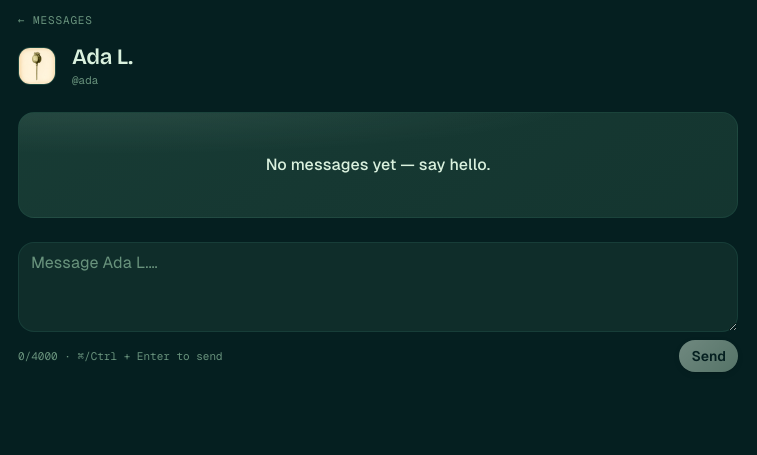
Test case: ConversationPage (todo 339) › a 403 on send shows the readable blocked notice, not DRF’s default detail
The width and height of the screenshot is (757, 455).
Type "hi" into the text box with placeholder "Message Ada L.…" at (378, 287), box [18,242,738,332]
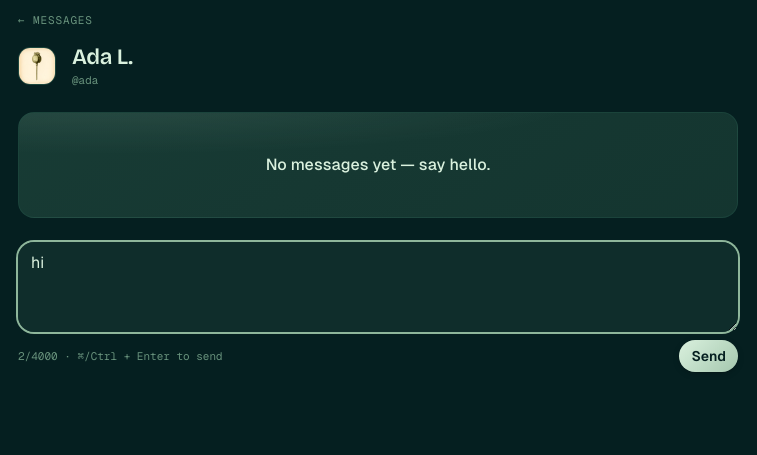
Click the button "Send" at (709, 356), box [679,340,738,372]
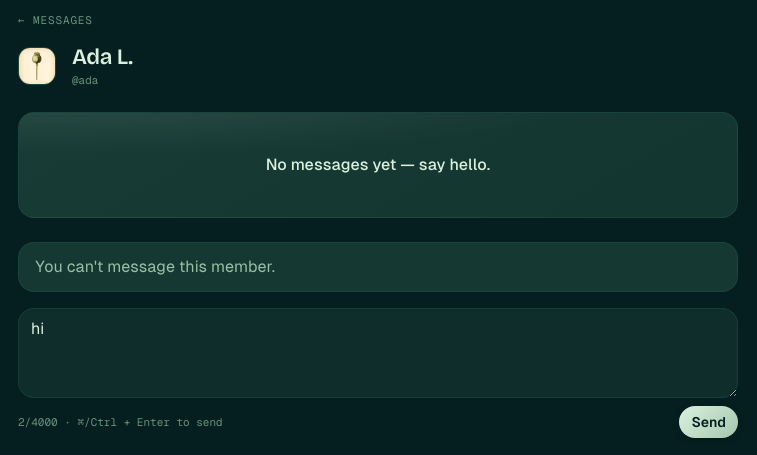
Expected: the text "You can't message this member." is shown, [18,242,738,292]
